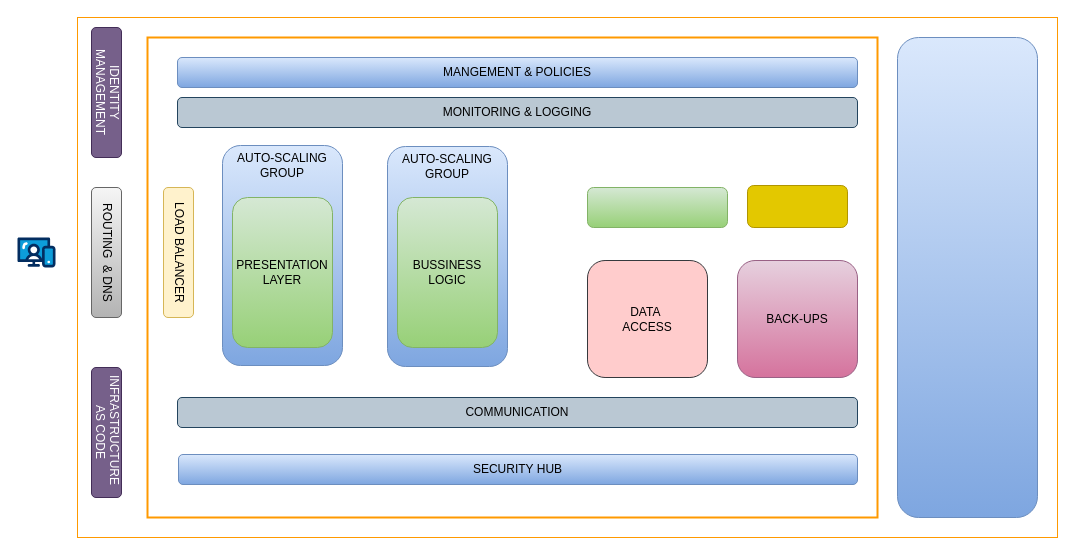
Image size: 1075x555. Some labels were removed from this diagram. The centre of each missing label's shape, as x and y in pixels:
DEVELOPMENT CYCLE: (x=967, y=277)
REPLICATION: (x=797, y=206)
STORAGE: (x=657, y=207)
